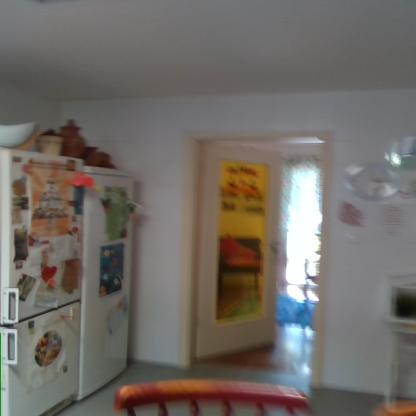semi: (177, 120, 341, 384)
